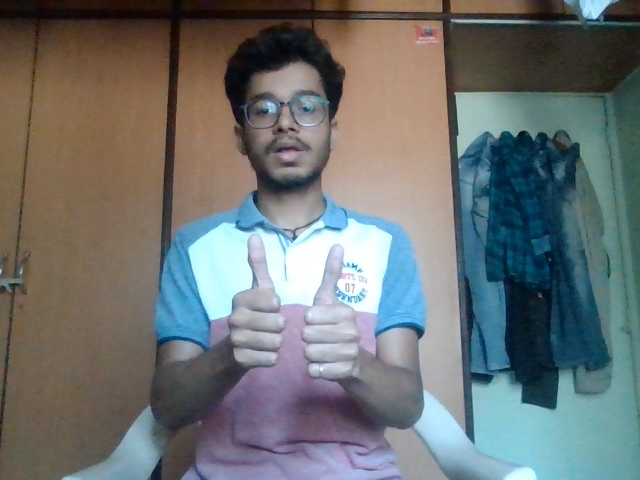thank-you: (231, 229, 365, 389)
